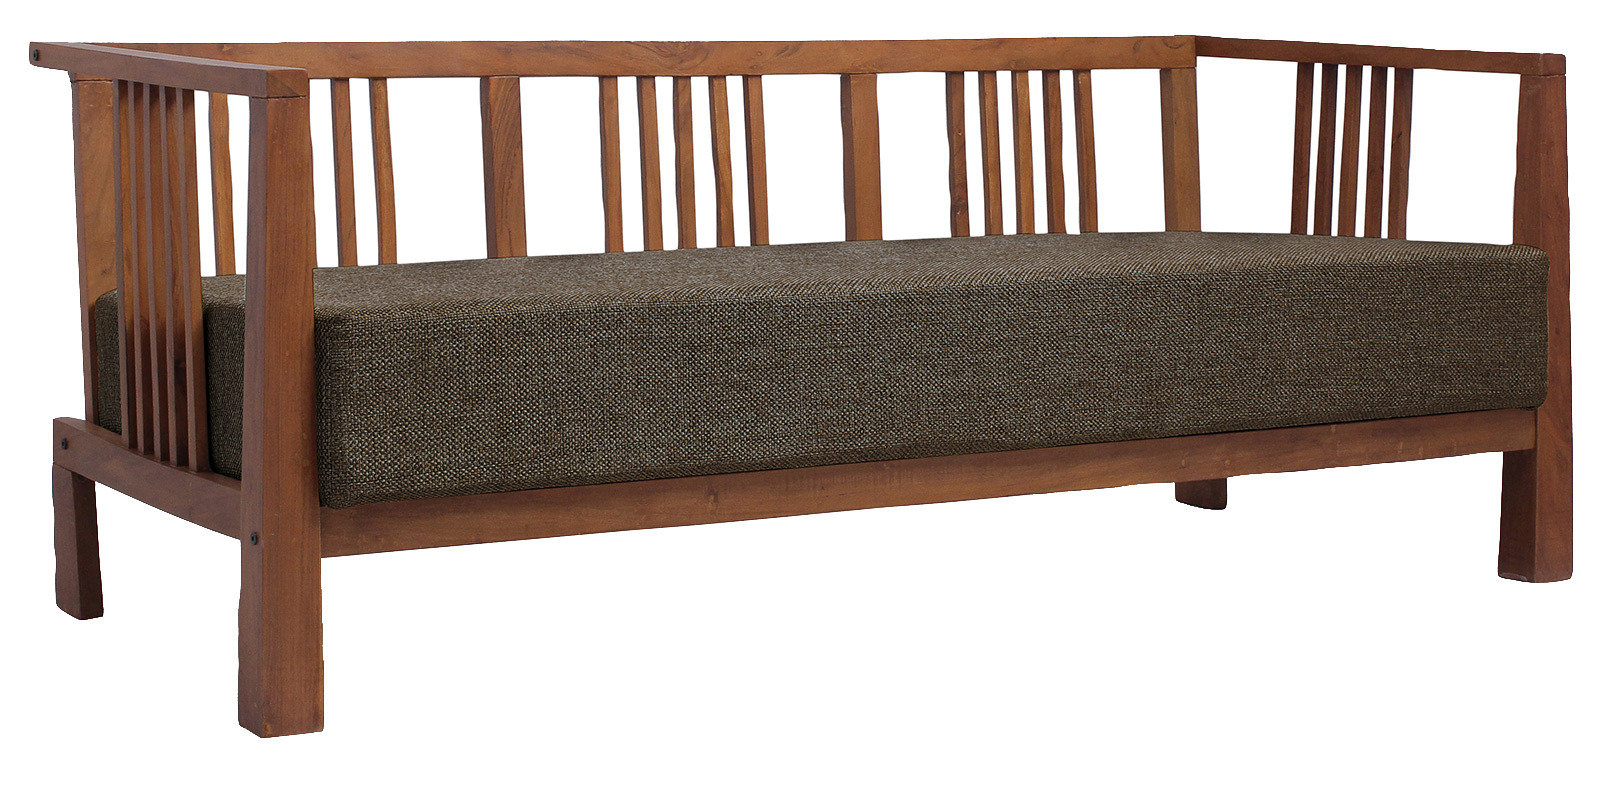Dijon Three Seater Sofa in Dark Brown Colour by Auspicious Home: (13, 22, 1582, 748)
